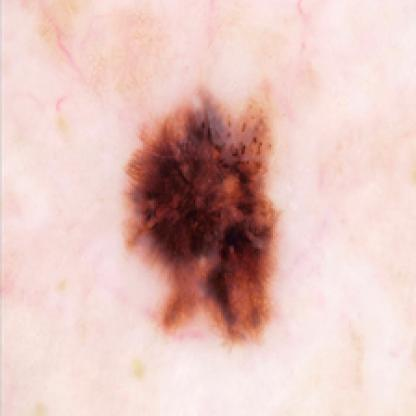Skin_Cancer-Malignant: (118, 76, 290, 352)
